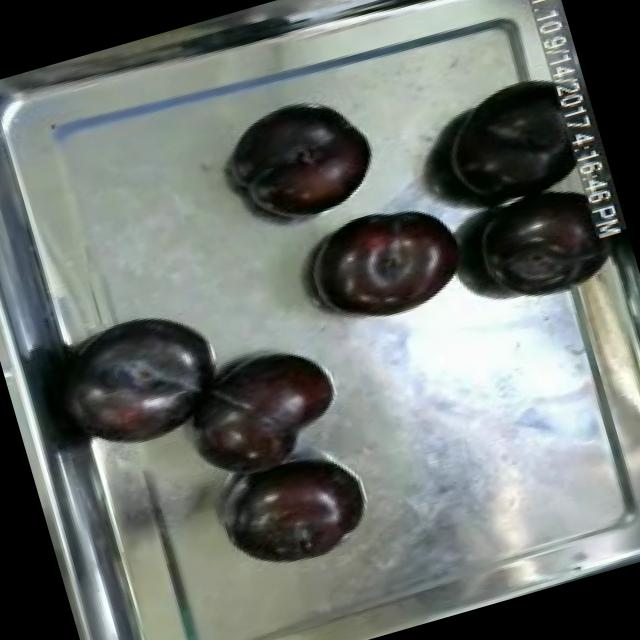Fruit: (45, 290, 238, 467), (173, 329, 357, 492), (299, 185, 483, 338), (420, 64, 593, 223), (222, 83, 389, 237), (220, 436, 382, 581)
